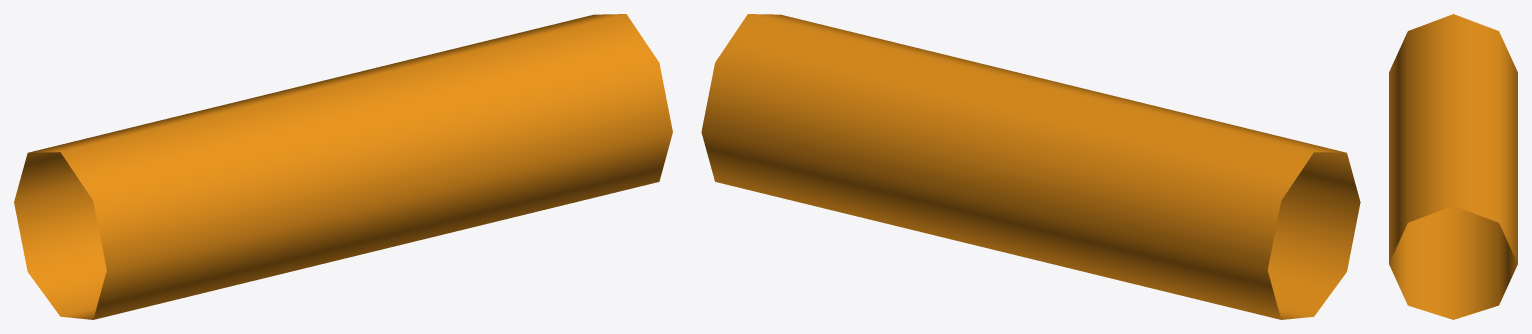
File: Pipe_1_C_1_1.fbx
3 renders of one model, left to right at view 1: azimuth 30°, elevation 25°; view 2: azimuth 150°, elevation 25°; view 3: azimuth 270°, elevation 25°, orthographic. The views are drawn at different scales.
Visible parts, largest first — view 1: Pipe_1_C_1_1; view 2: Pipe_1_C_1_1; view 3: Pipe_1_C_1_1.
Part boxes in pixels (bbox=[...]): Pipe_1_C_1_1: bbox=[14, 14, 672, 319]; Pipe_1_C_1_1: bbox=[701, 14, 1360, 319]; Pipe_1_C_1_1: bbox=[1389, 14, 1517, 319].
Bounding box in the file's own units: 76.72 × 21.31 × 21.8.
